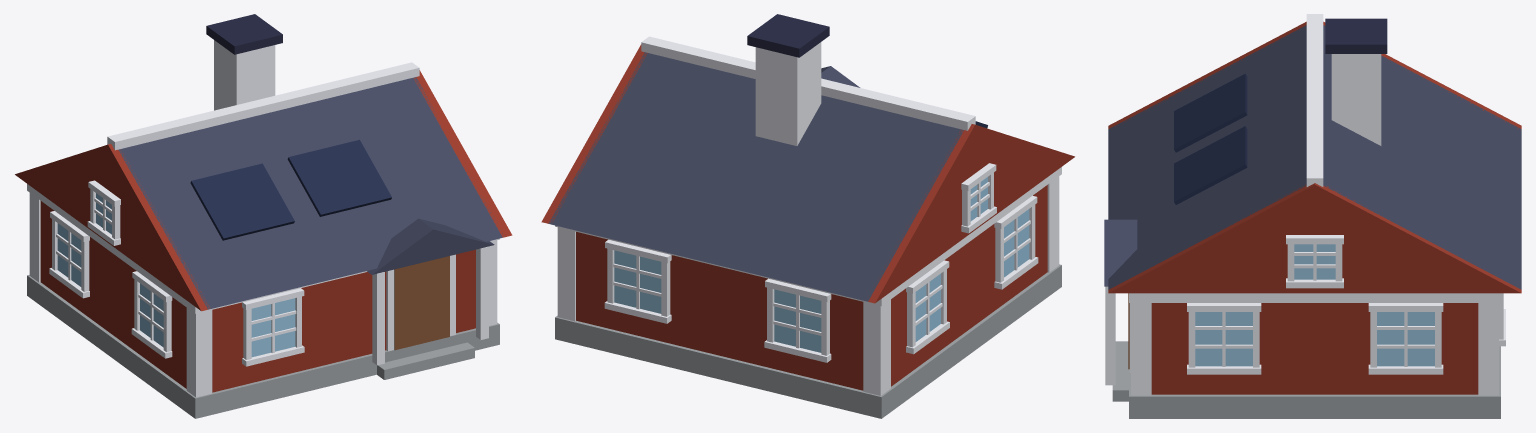
File: house-1x1-1f-stuga-a-solar.glb
3 renders of one model, left to right at view 1: azimuth 30°, elevation 25°; view 2: azimuth 150°, elevation 25°; view 3: azimuth 270°, elevation 25°, orthographic. The views are drawn at different scales.
Parts seen in each view (by area): view 1: house-1x1-1f-stuga-a-solar; view 2: house-1x1-1f-stuga-a-solar; view 3: house-1x1-1f-stuga-a-solar.
Part boxes in pixels (x1=…): house-1x1-1f-stuga-a-solar: x1=15, y1=14, x2=512, y2=418; house-1x1-1f-stuga-a-solar: x1=541, y1=14, x2=1074, y2=418; house-1x1-1f-stuga-a-solar: x1=1104, y1=14, x2=1521, y2=418.
Size of the model in its own units: 1 by 0.815 by 1.01.
Materials: 1 (1 with a texture image).
